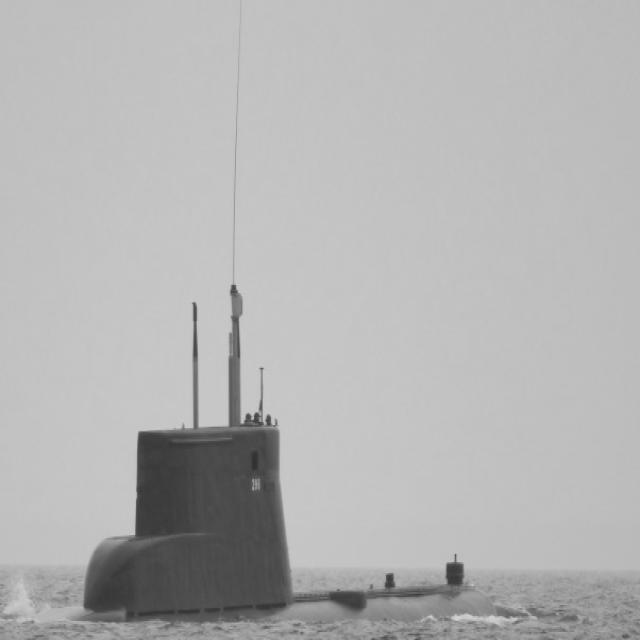submarine: (83, 283, 497, 628)
